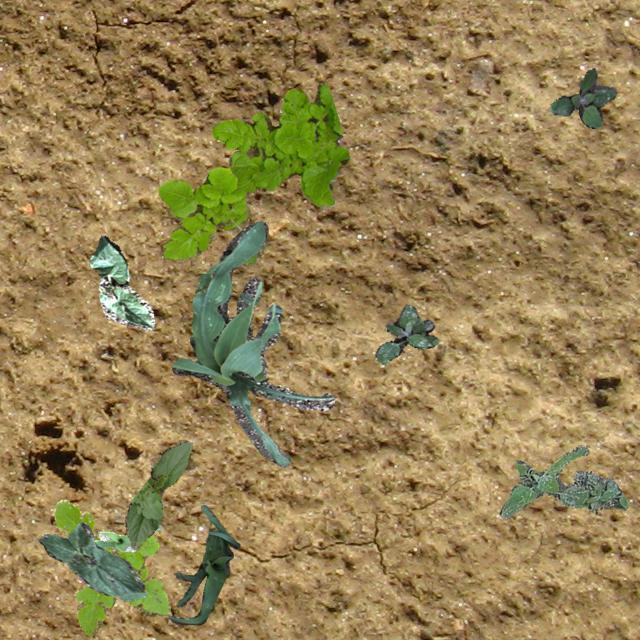crop: (170, 220, 334, 466), (38, 522, 146, 600), (170, 504, 238, 624), (124, 439, 192, 548), (89, 235, 154, 328), (92, 524, 162, 550)
weed: (158, 80, 348, 264), (52, 498, 170, 636), (498, 443, 626, 518), (548, 66, 616, 128), (375, 304, 437, 364)
